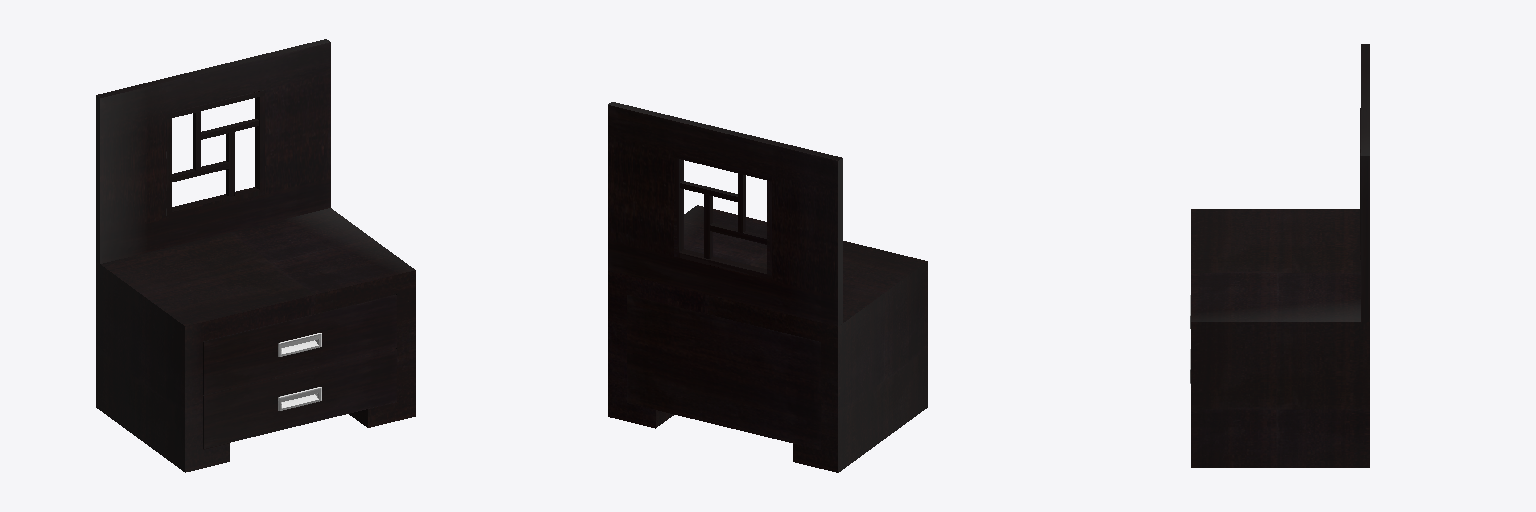
3 views of the same model, side by side, from view 1: azimuth 30°, elevation 25°; view 2: azimuth 150°, elevation 25°; view 3: azimuth 270°, elevation 25° (orthographic).
Bounding box in the file's own units: 0.5348 × 0.6914 × 0.3615.
1 materials, 1 textured.